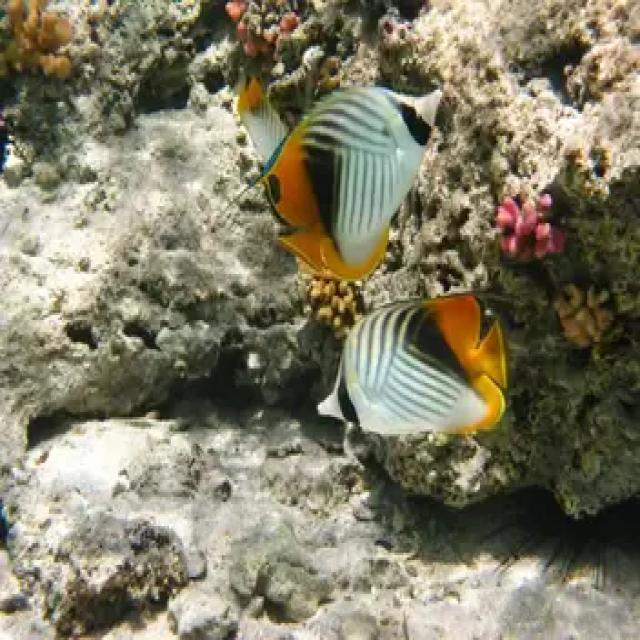ButterflyFish: (241, 64, 443, 279), (317, 300, 511, 467)
